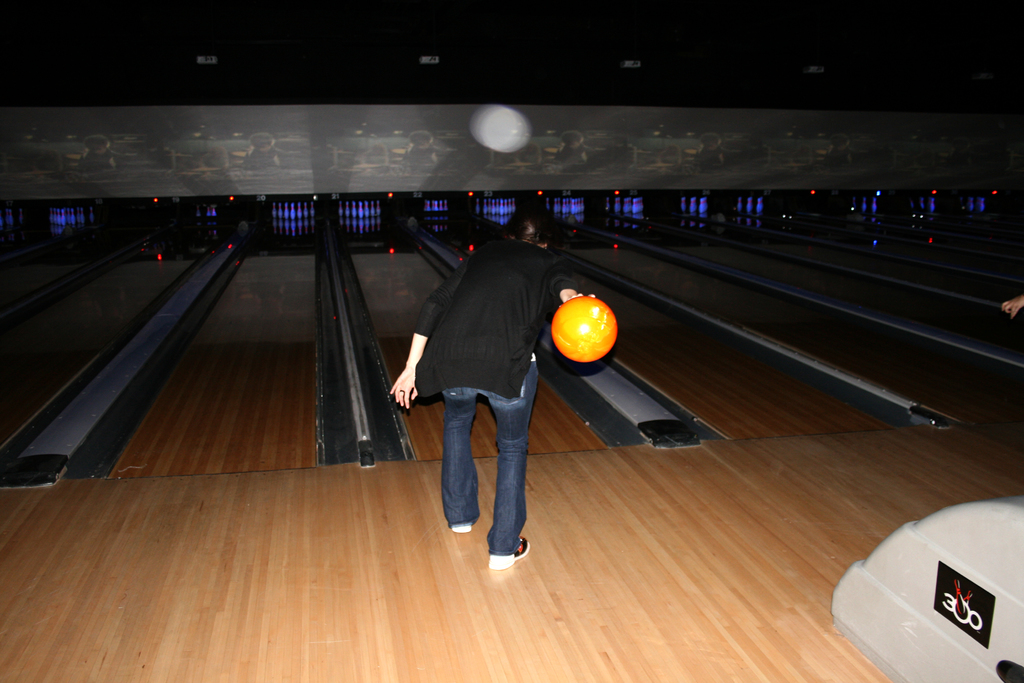Person: (389, 207, 595, 570), (1001, 293, 1024, 319)
